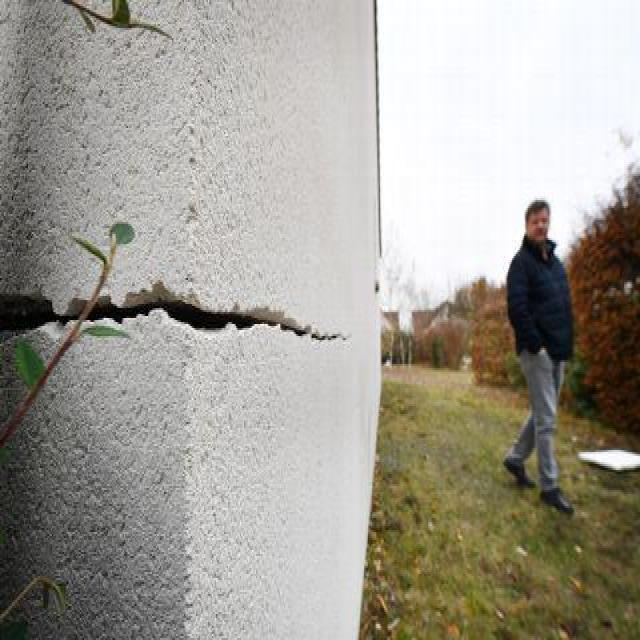crack: (0, 283, 350, 345)
